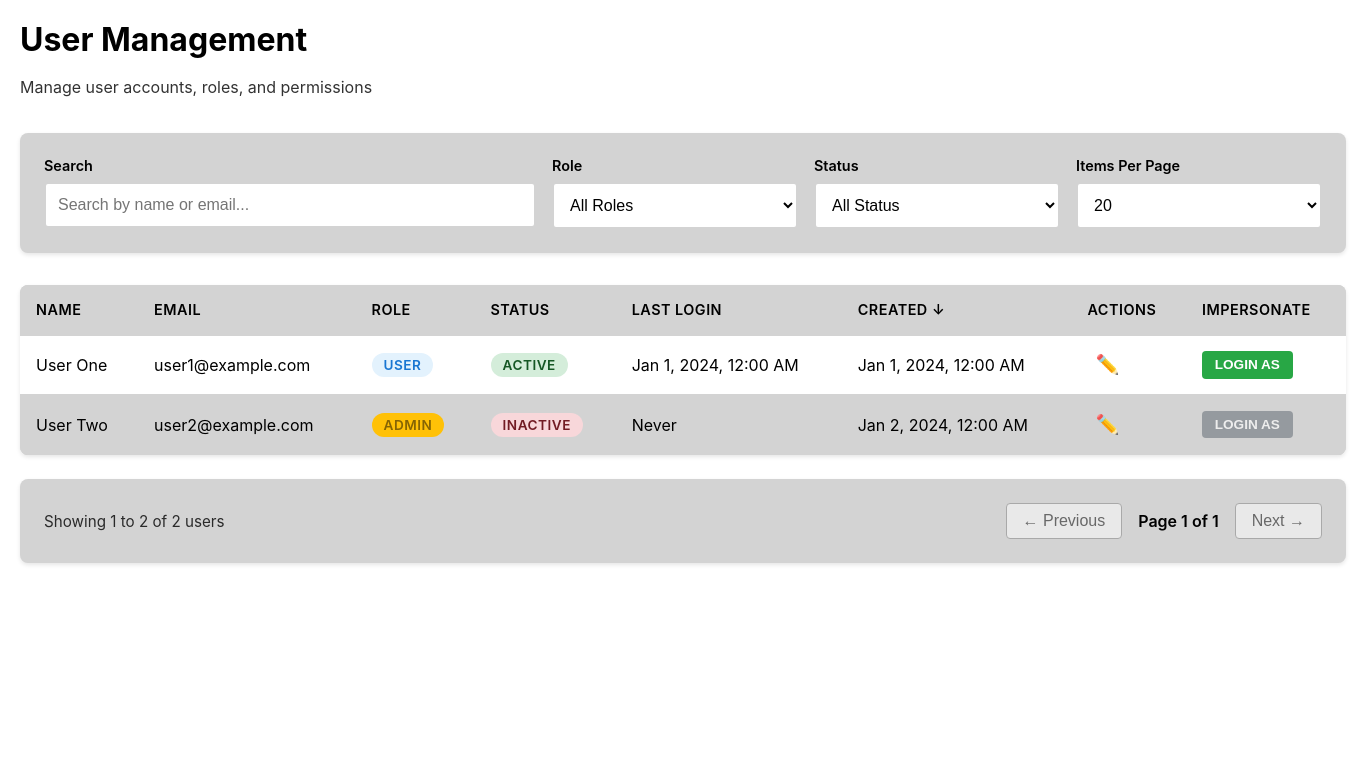
it: UserManagement › should display sort indicators
Click the column heading "Name": coordinates (79, 310) [20,285,138,335]
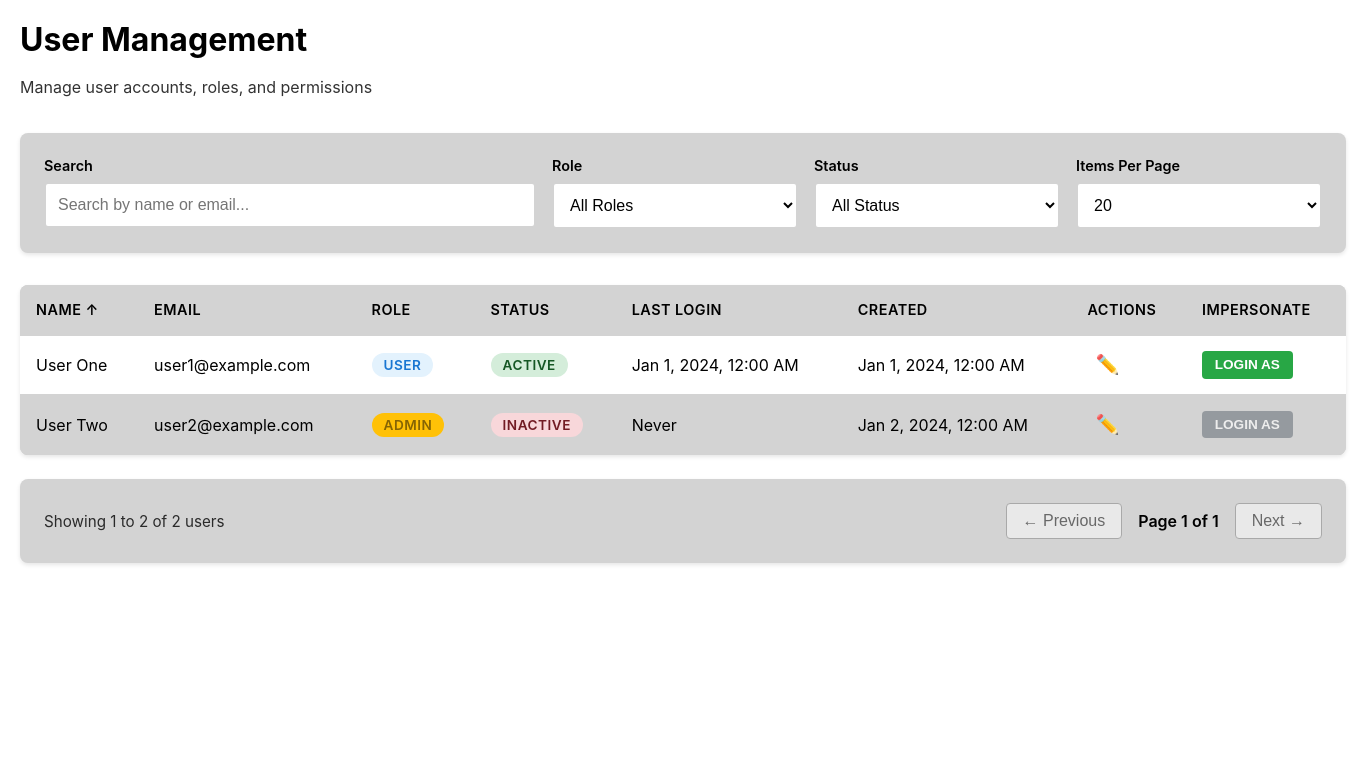
Result: the column heading "Name ↑" is shown at [20,285,138,335]
